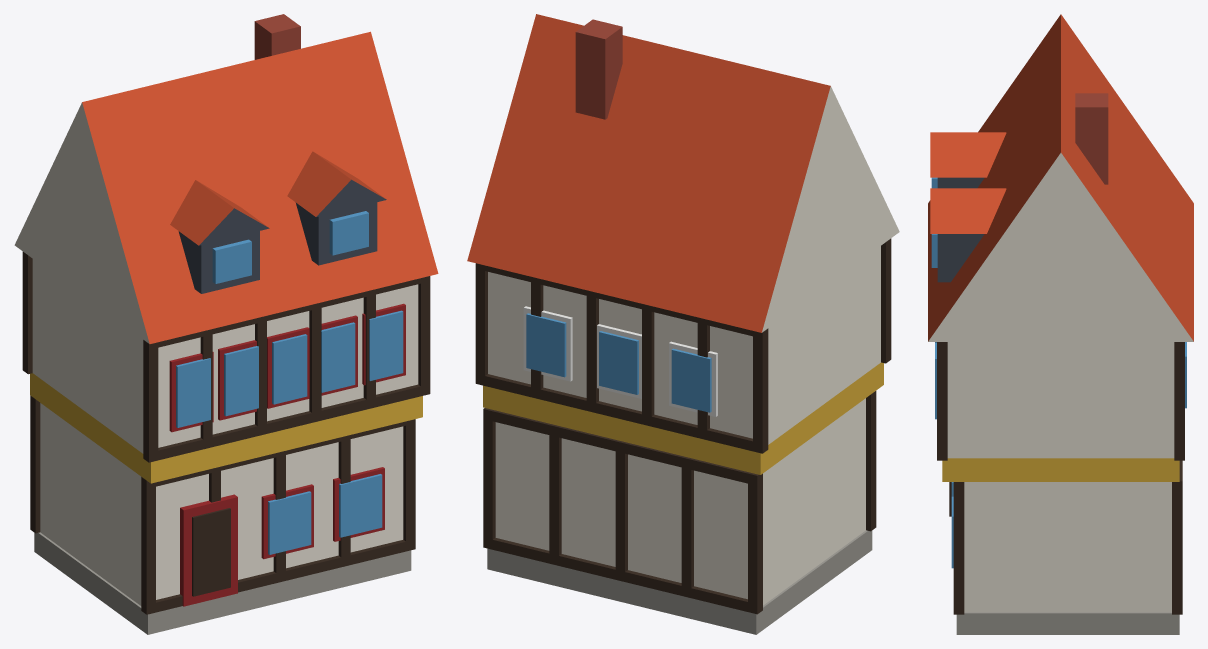
The model's file is 07_quedlinburg_fachwerk_1.obj.
3 views of the same model, side by side, from view 1: azimuth 30°, elevation 25°; view 2: azimuth 150°, elevation 25°; view 3: azimuth 270°, elevation 25° (orthographic). The views are drawn at different scales.
Parts seen in each view (by area): view 1: 07_quedlinburg_fachwerk_1; view 2: 07_quedlinburg_fachwerk_1; view 3: 07_quedlinburg_fachwerk_1.
Part boxes in pixels (<box>): 07_quedlinburg_fachwerk_1: <box>14,14,438,634</box>; 07_quedlinburg_fachwerk_1: <box>467,14,899,634</box>; 07_quedlinburg_fachwerk_1: <box>928,14,1193,634</box>.
Bounding box in the file's own units: 1.38 × 2.34 × 1.12.
